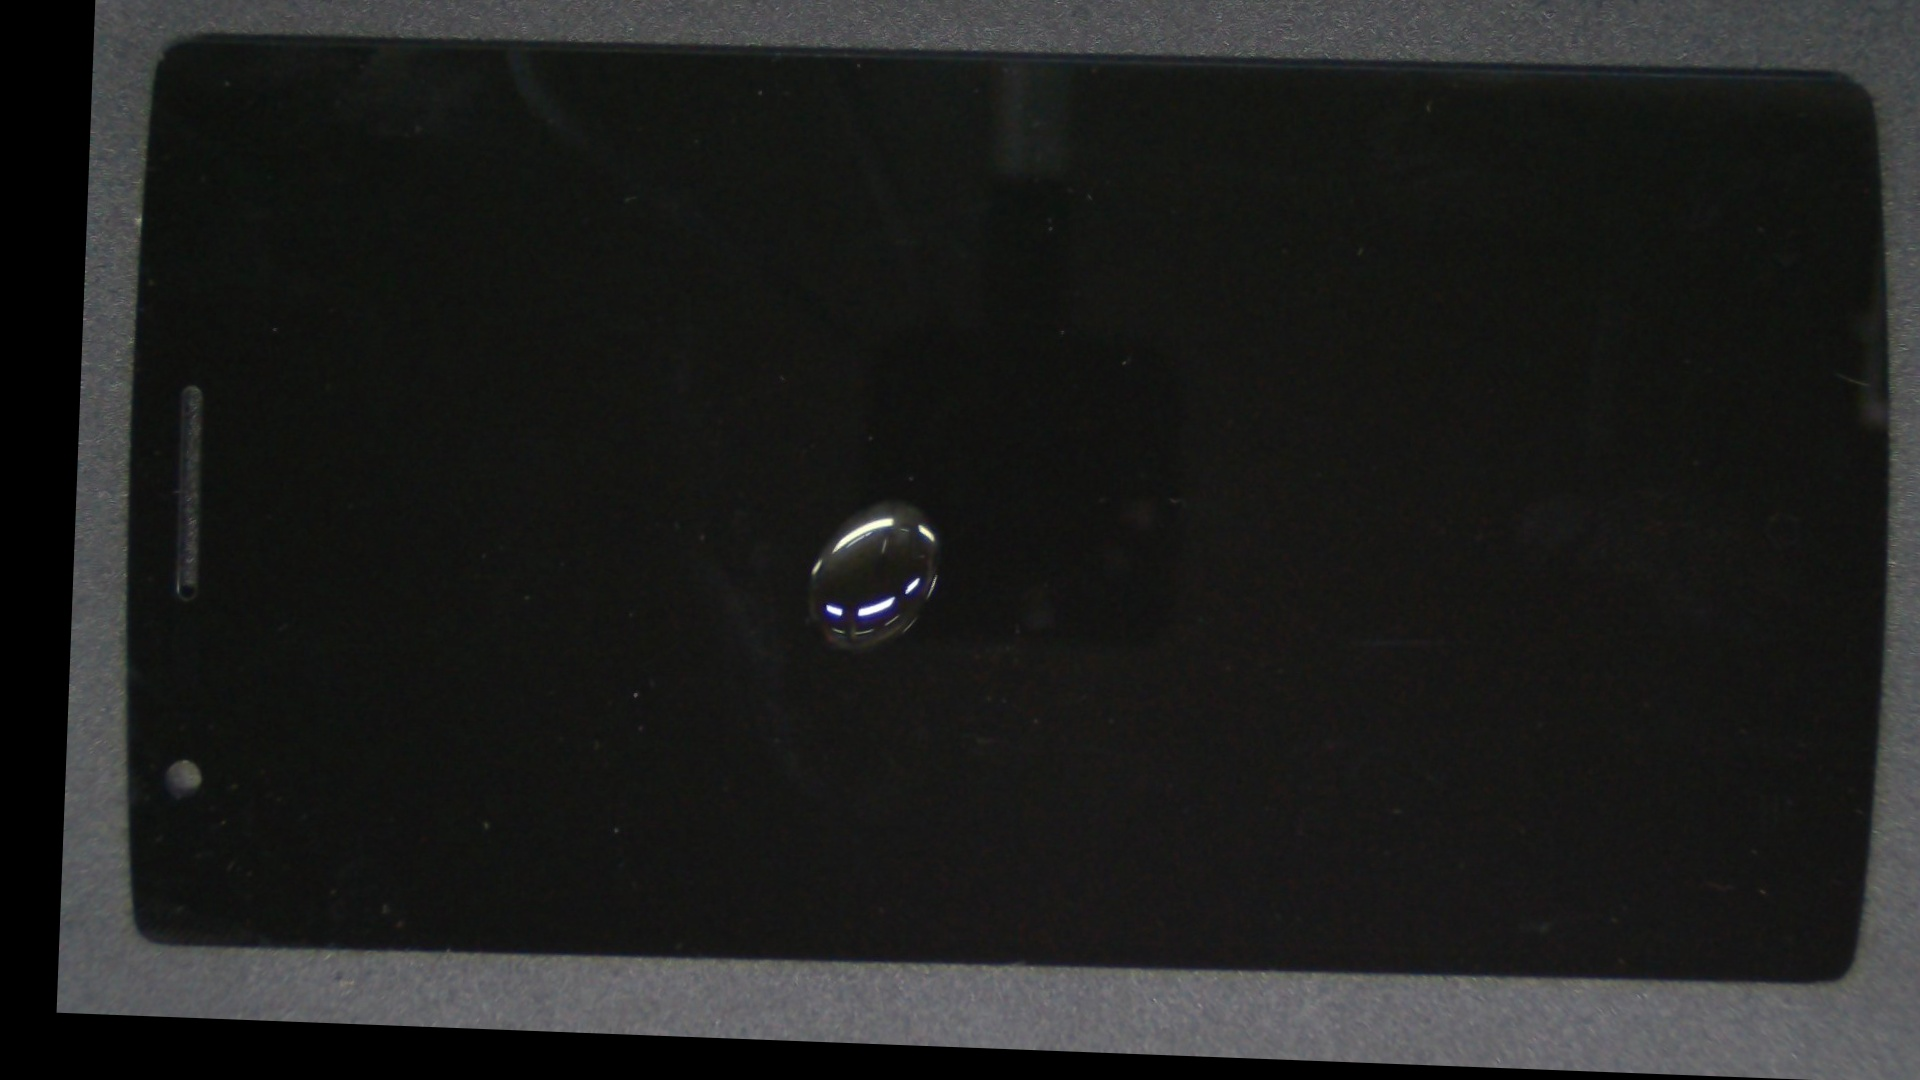oil: (471, 211, 1298, 790)
